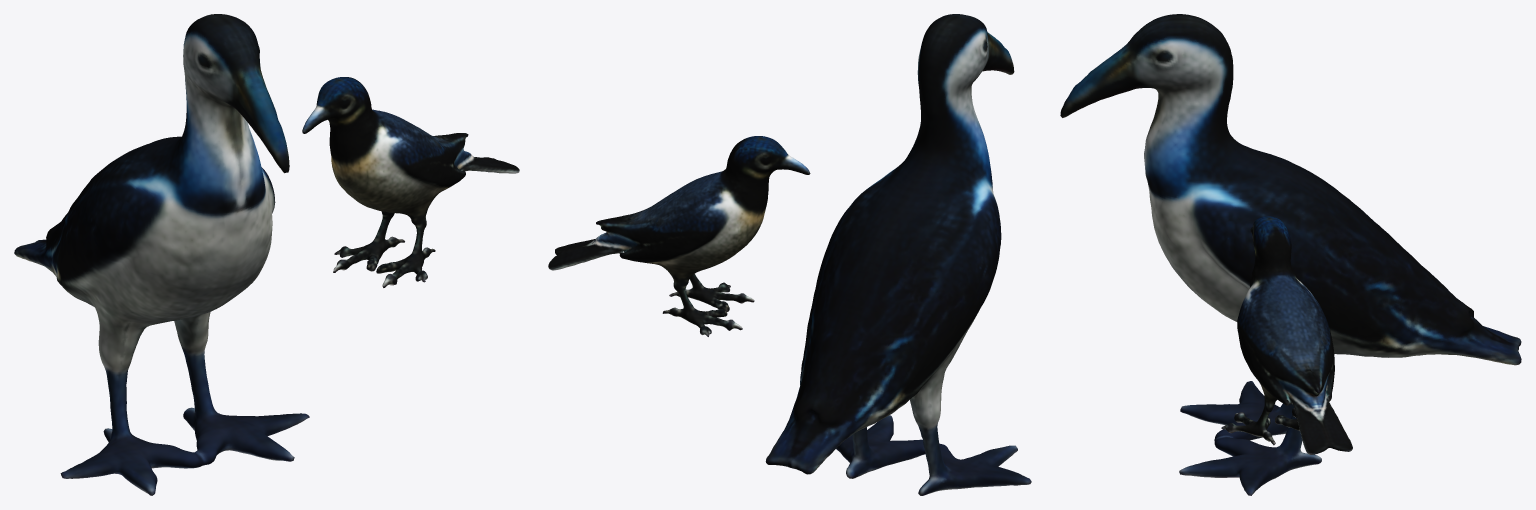
Rendered from blue-footed-bird.glb.
The picture shows the model from 3 angles, left to right: view 1: azimuth 30°, elevation 25°; view 2: azimuth 150°, elevation 25°; view 3: azimuth 270°, elevation 25°; orthographic projection. The views are drawn at different scales.
Parts seen in each view (by area): view 1: Mesh_0, Mesh_0.001; view 2: Mesh_0, Mesh_0.001; view 3: Mesh_0, Mesh_0.001.
Part boxes in pixels (x1,y1,x2,y2): Mesh_0: (14, 14, 309, 495); Mesh_0.001: (302, 77, 519, 287); Mesh_0: (765, 14, 1031, 495); Mesh_0.001: (548, 136, 810, 336); Mesh_0: (1060, 14, 1521, 495); Mesh_0.001: (1221, 216, 1352, 454).
Bounding box in the file's own units: 9.74 × 8.87 × 8.56.
Materials: 2 (2 with a texture image).
